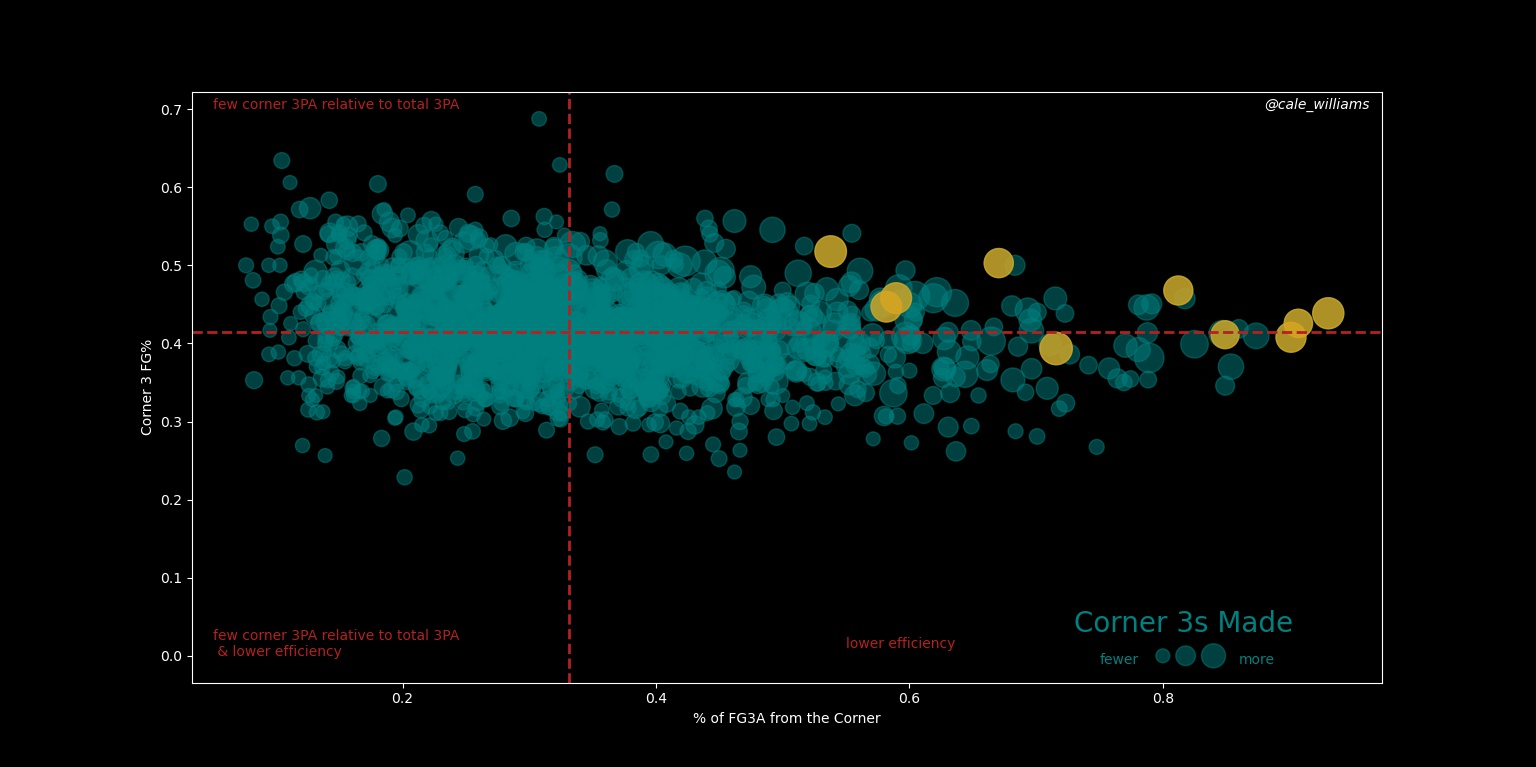

Layout of this report page (visuals, bound fields, positions):
{"tool":"tableau","page":{"name":"Dashboard 1","canvas":[800,800],"ordinal":0},"visuals":[{"type":"worksheet","title":"Sheet 1","mark":"Automatic","rows":["LOC_Y"],"cols":["LOC_X"],"box":[8,8,624,784]},{"type":"legend","title":"Sheet 1","param":"[federated.03dq9x01td4w500zwbh3a0a7gqdi].[none:SHOT_MADE_FLAG:ok]","box":[632,8,160,72]}]}

Visuals, with their boxes on the page's 800x800 design canvas (x1, y1, x2, y2). These are canvas units, not pixel positions in the 1536x767 screenshot, which may show the page scaled, cropped or inside an application window:
"Sheet 1" worksheet: {"x1": 8, "y1": 8, "x2": 632, "y2": 792}
"Sheet 1" legend: {"x1": 632, "y1": 8, "x2": 792, "y2": 80}
